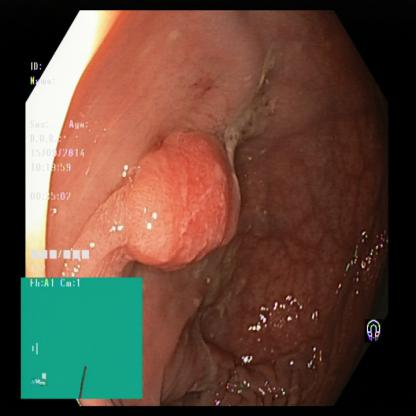Labels: (27, 58, 102, 270), (22, 277, 144, 398), (358, 304, 387, 346)
Polyps: (111, 150, 235, 255)
